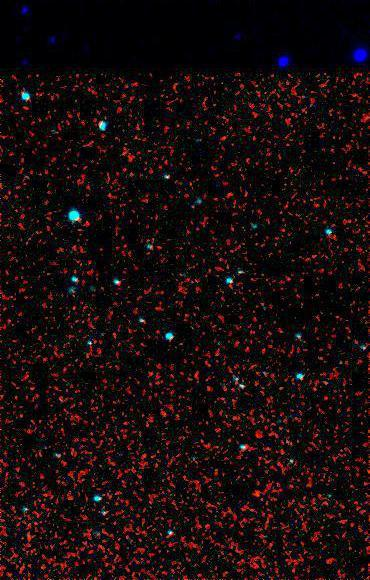star: (242, 482, 272, 512)
